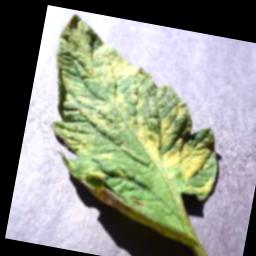Leaf_Mold: (123, 90, 230, 200)
